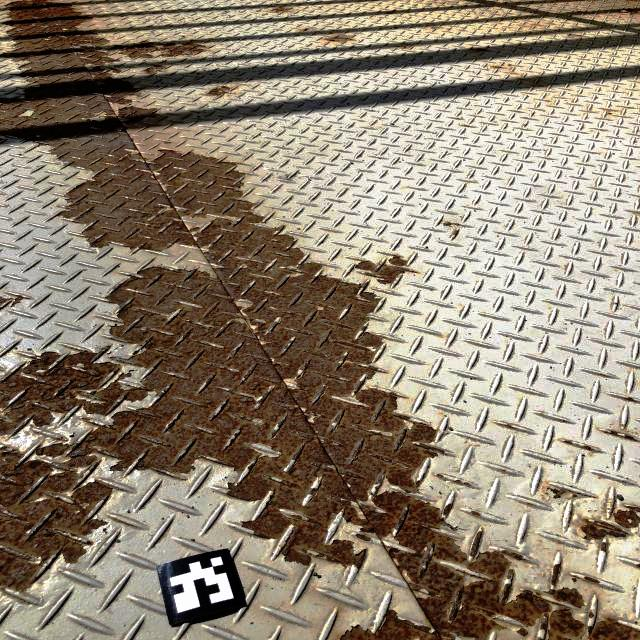Corrosion: (0, 0, 640, 640), (575, 517, 631, 552), (611, 504, 640, 530), (602, 430, 640, 443), (0, 294, 30, 308), (562, 440, 595, 452), (548, 486, 576, 500), (143, 64, 168, 75), (205, 86, 231, 96), (325, 35, 357, 43), (617, 7, 640, 15), (270, 6, 294, 13), (452, 479, 472, 486), (442, 222, 454, 228), (472, 48, 490, 52), (504, 423, 518, 428), (396, 45, 411, 49), (301, 27, 312, 32), (471, 511, 480, 517), (625, 397, 635, 401), (491, 66, 504, 69), (436, 473, 444, 477), (452, 230, 458, 235)
